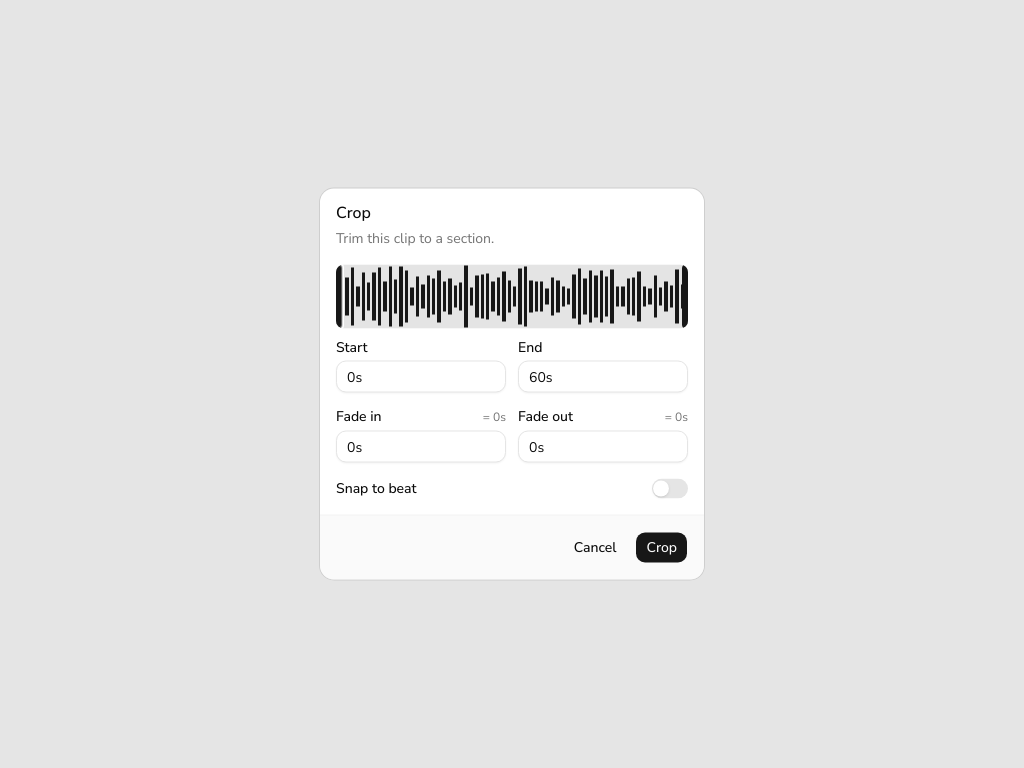
CropModal › submits the crop payload to the crop endpoint and reaches success
Replace the text in the field labelled "End" with "30s" at x=603, y=376, box [518,360,688,392]
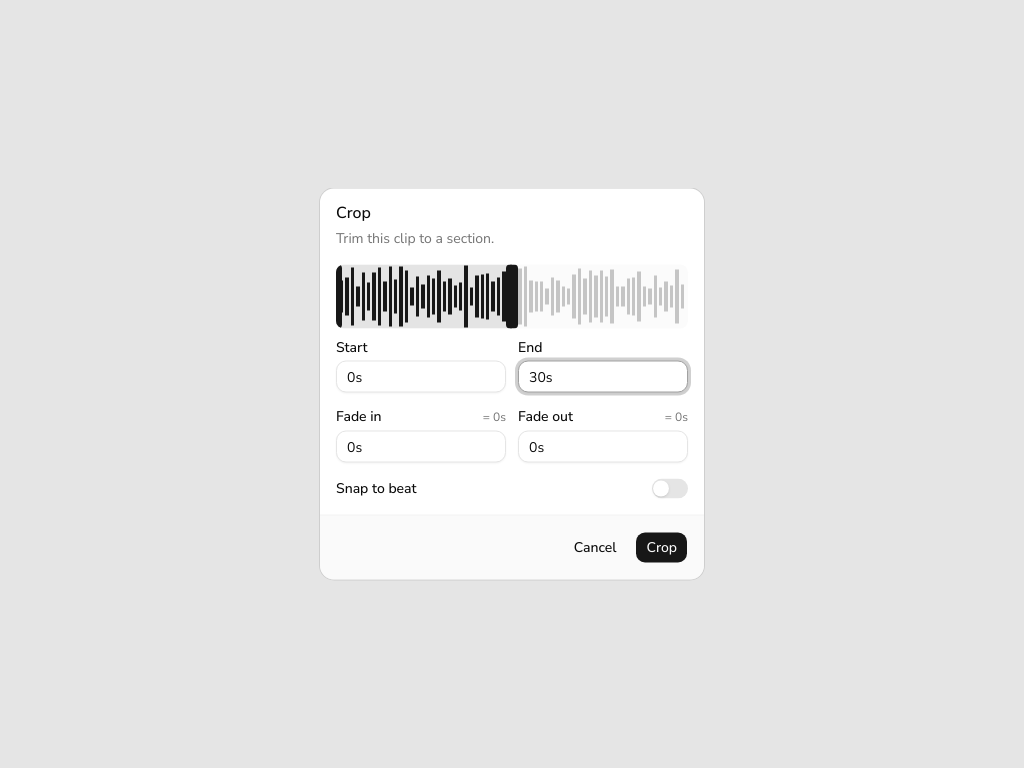
Click the button "Crop" at x=662, y=548, box [636,532,688,564]
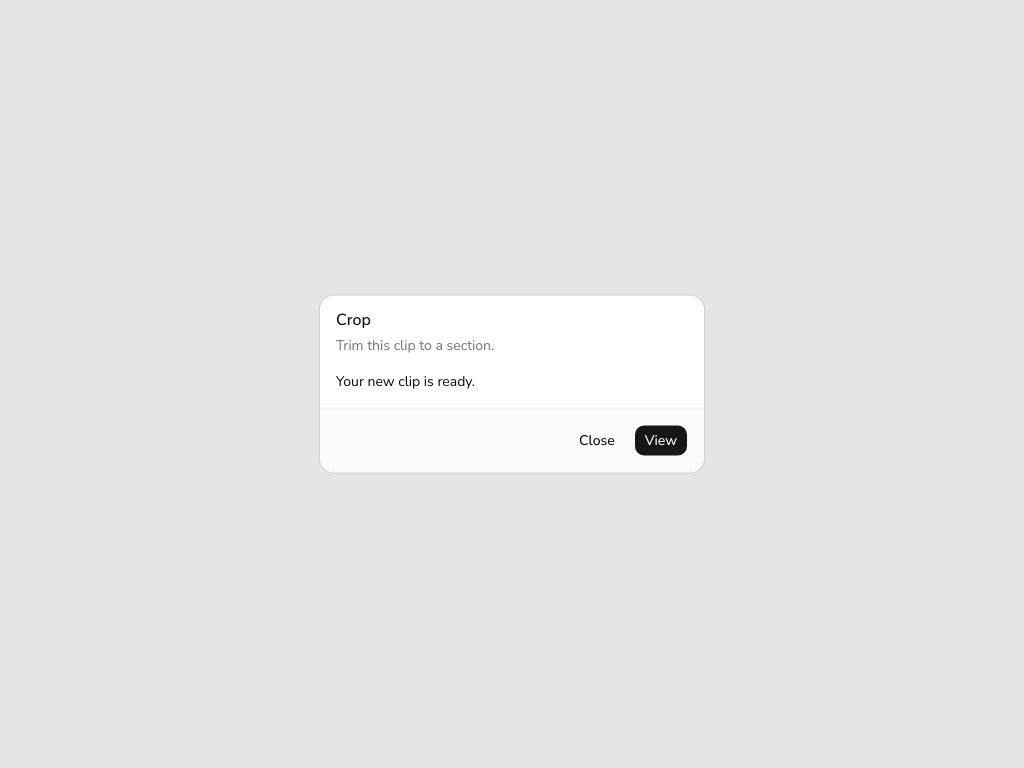
Check: the text "Your new clip is ready." is shown, box [336,372,475,390]
